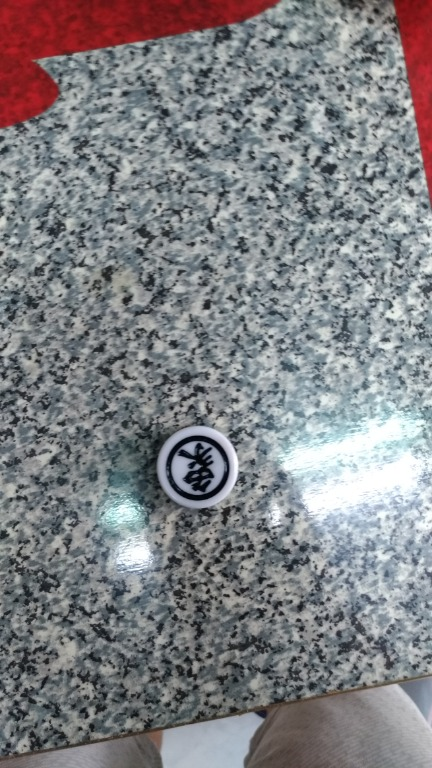b-elephant: (134, 415, 273, 523)
